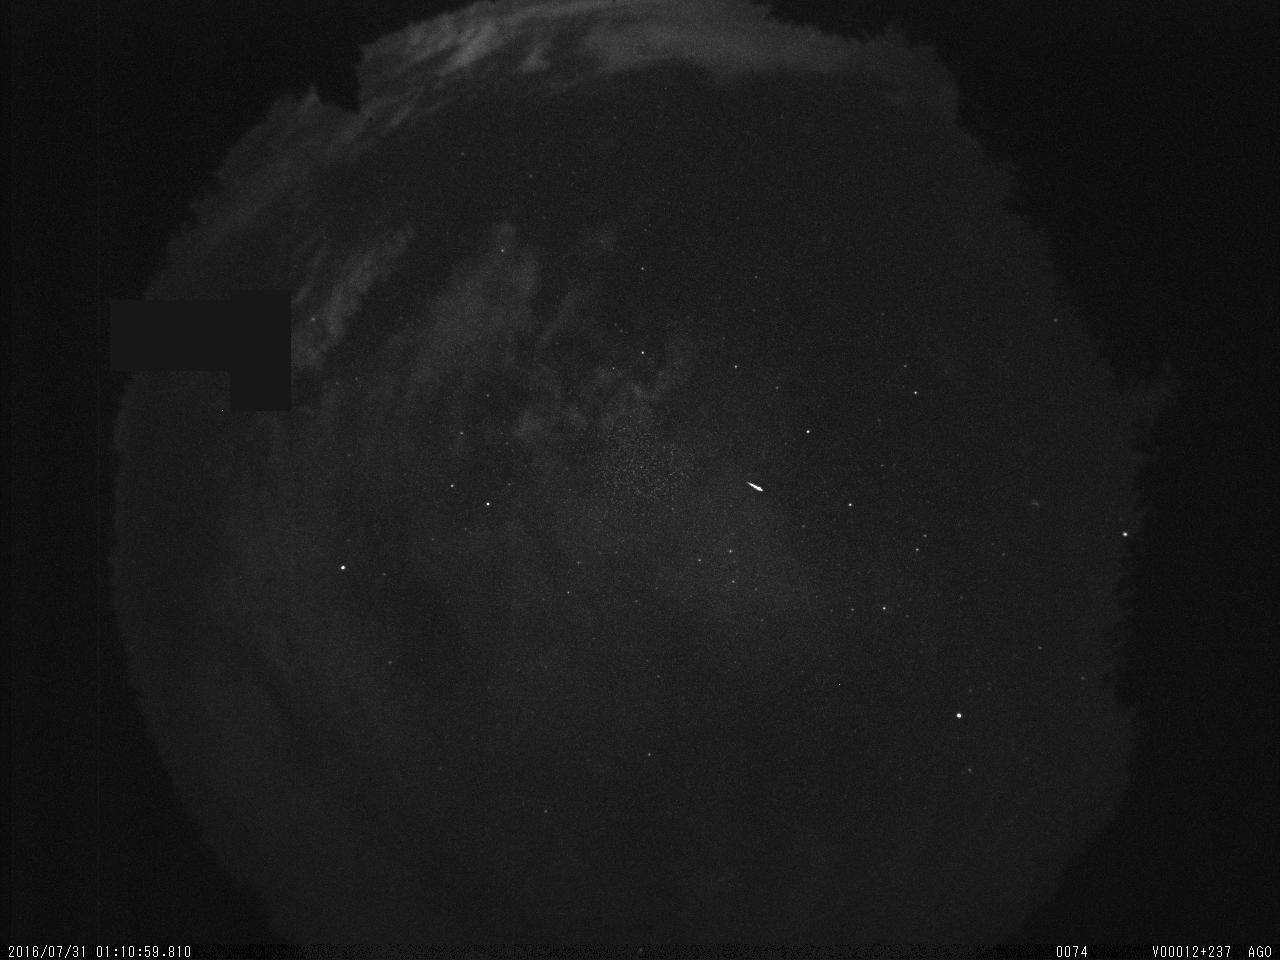meteor: (728, 469, 787, 512)
